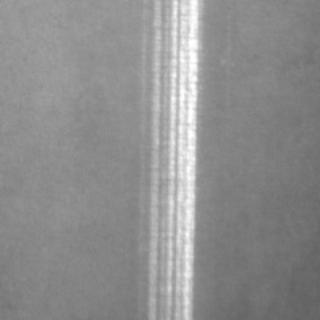scratches: (136, 0, 200, 316)
